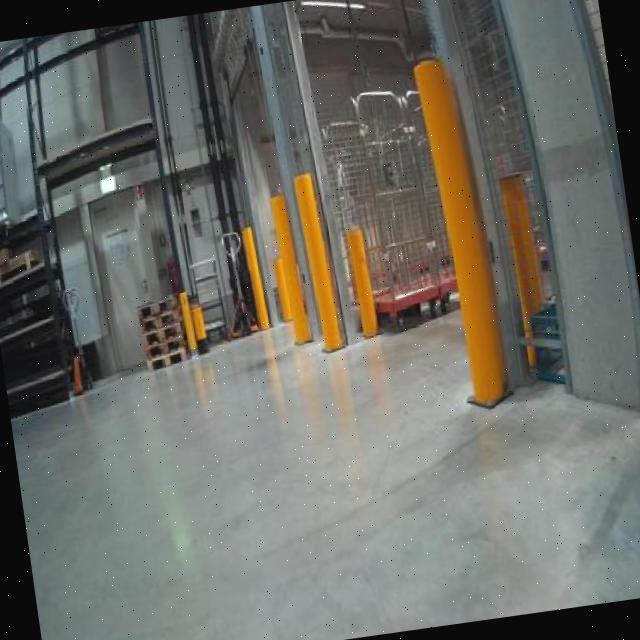pallet: (140, 328, 190, 367), (140, 345, 194, 379)
